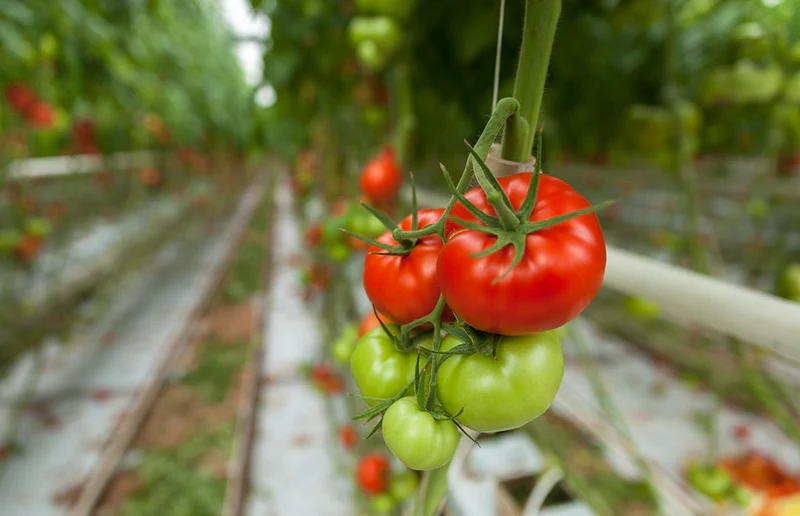tomato: (448, 167, 600, 320)
